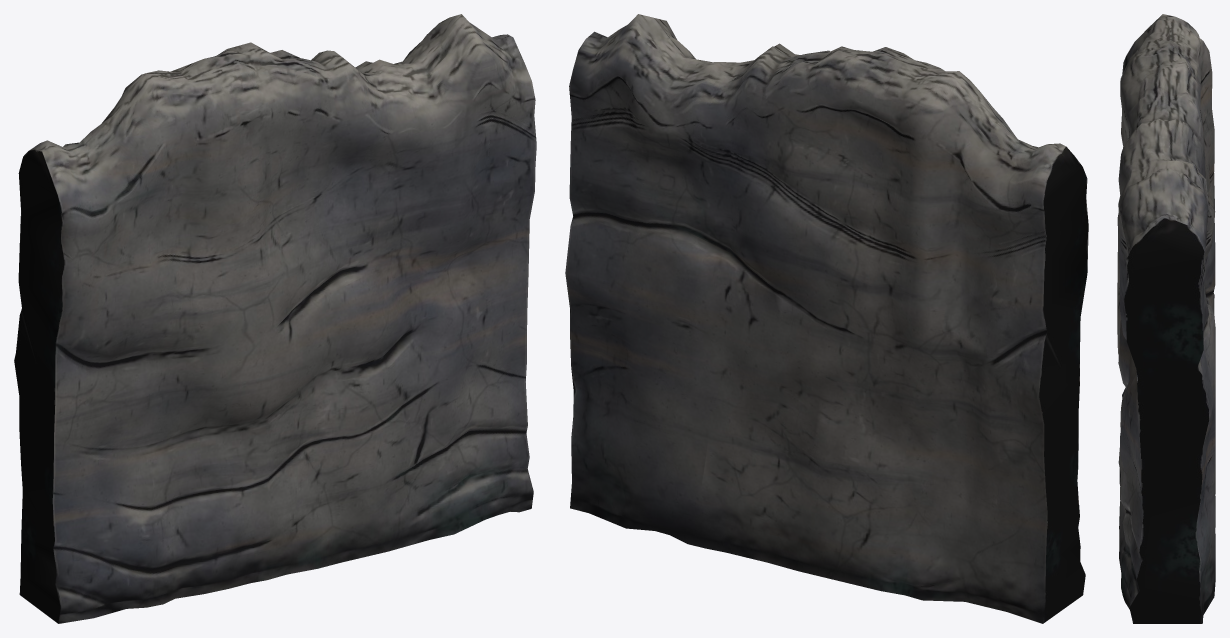
Rendered from cavern_wall.glb.
3 views of the same model, side by side, from view 1: azimuth 30°, elevation 25°; view 2: azimuth 150°, elevation 25°; view 3: azimuth 270°, elevation 25° (orthographic). The views are drawn at different scales.
Visible parts, largest first — view 1: cavern_wall; view 2: cavern_wall; view 3: cavern_wall.
Part boxes in pixels (x1,y1,x2,y2): cavern_wall: [14, 14, 536, 623]; cavern_wall: [565, 14, 1088, 623]; cavern_wall: [1117, 14, 1215, 623].
Bounding box in the file's own units: 4 × 4.12 × 0.8175.
Materials: 1 (1 with a texture image).
